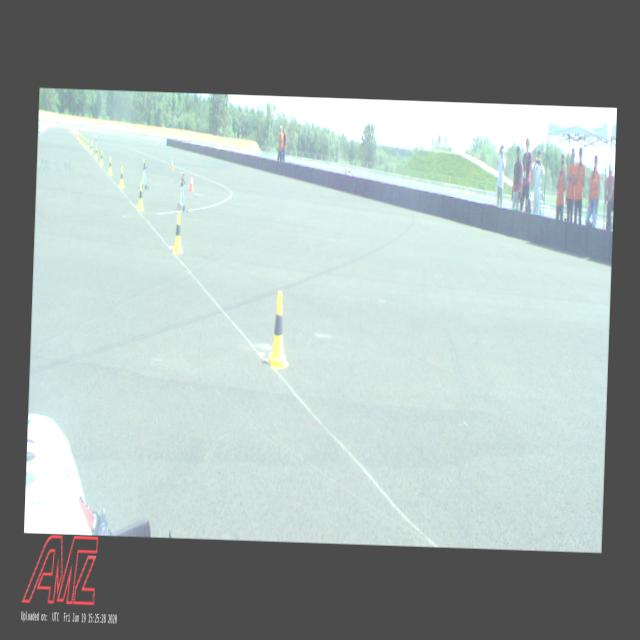orange_cone: (188, 172, 194, 191), (170, 157, 173, 170)
yellow_cone: (266, 290, 290, 370), (172, 211, 184, 254), (136, 183, 144, 210), (119, 166, 124, 187), (99, 150, 104, 165), (108, 156, 112, 174), (94, 145, 98, 158), (90, 142, 93, 154), (86, 140, 88, 150), (84, 137, 86, 146), (82, 135, 84, 144), (78, 132, 80, 140), (80, 134, 82, 142), (78, 132, 80, 138)
